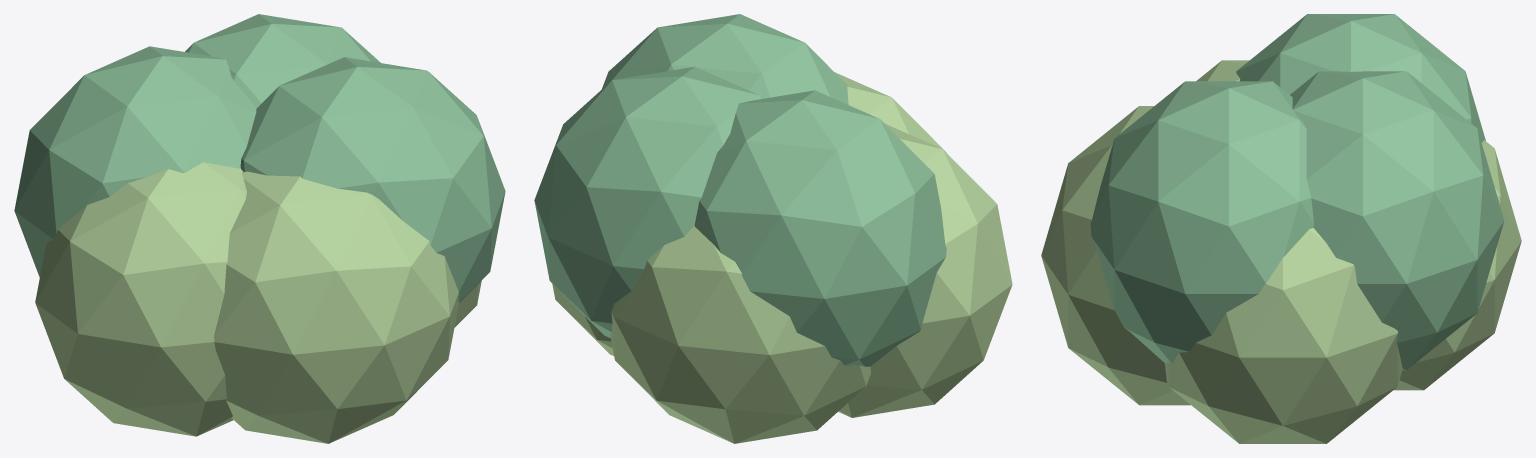
File: bush.glb
3 renders of one model, left to right at view 1: azimuth 30°, elevation 25°; view 2: azimuth 150°, elevation 25°; view 3: azimuth 270°, elevation 25°, orthographic. The views are drawn at different scales.
Parts seen in each view (by area): view 1: bush_002, bush_004, bush_005, bush_001, bush_003; view 2: bush_001, bush_003, bush_006, bush_004, bush_005, bush_002, bush_000; view 3: bush_005, bush_003, bush_000, bush_002, bush_001, bush_006, bush_004.
Part boxes in pixels (x1,y1,x2,y2): bush_002: (214, 171, 459, 443); bush_004: (35, 162, 246, 436); bush_005: (240, 57, 505, 302); bush_001: (14, 46, 256, 277); bush_003: (185, 14, 380, 107); bush_001: (694, 90, 946, 366); bush_003: (534, 66, 762, 337); bush_006: (610, 225, 870, 443); bush_004: (838, 123, 1012, 417); bush_005: (602, 14, 848, 104); bush_002: (834, 72, 946, 152); bush_000: (552, 284, 613, 355); bush_005: (1090, 81, 1313, 363); bush_003: (1290, 71, 1504, 370); bush_000: (1165, 228, 1402, 443); bush_002: (1041, 106, 1190, 405); bush_001: (1236, 14, 1485, 142); bush_006: (1393, 140, 1521, 390); bush_004: (1196, 60, 1249, 81).
Bounding box in the file's own units: 1.59 × 1.2 × 1.53.
